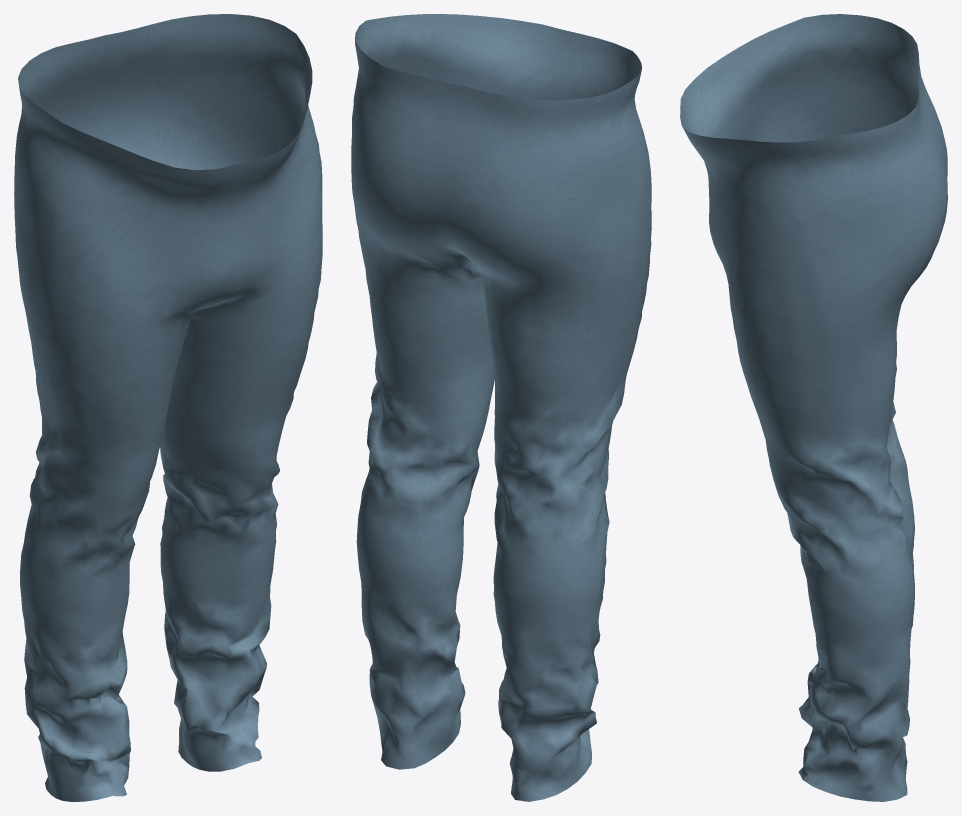
The model's file is fatfart-pants.obj.
3 renders of one model, left to right at view 1: azimuth 30°, elevation 25°; view 2: azimuth 150°, elevation 25°; view 3: azimuth 270°, elevation 25°, orthographic. The views are drawn at different scales.
Size of the model in its own units: 400 by 998 by 351.
Materials: 1 (1 with a texture image).
